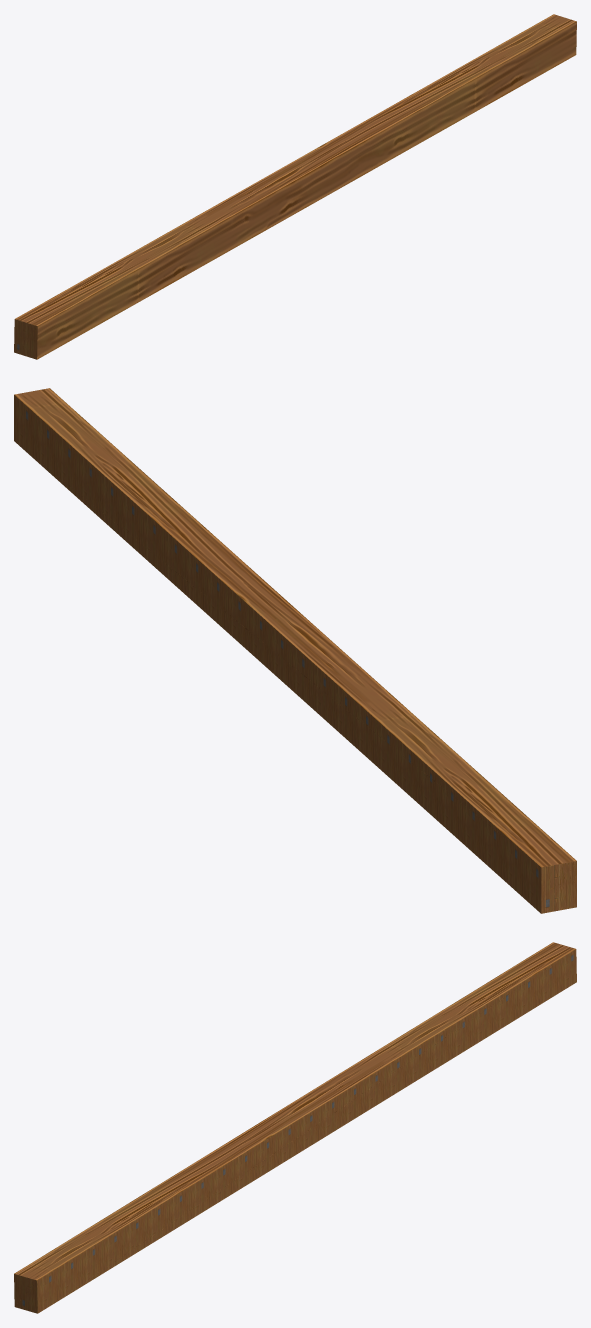
3 views of the same model, one above another, from view 1: azimuth 90°, elevation 25°; view 2: azimuth 150°, elevation 25°; view 3: azimuth 270°, elevation 25° (orthographic). The views are drawn at different scales.
Visible parts, largest first — view 1: Cube.776; view 2: Cube.776; view 3: Cube.776.
Part boxes in pixels (bbox=[...]): Cube.776: bbox=[14, 14, 576, 359]; Cube.776: bbox=[14, 388, 576, 913]; Cube.776: bbox=[14, 942, 576, 1313].
Bounding box in the file's own units: 398 × 26.81 × 291.
Materials: 1 (1 with a texture image).
